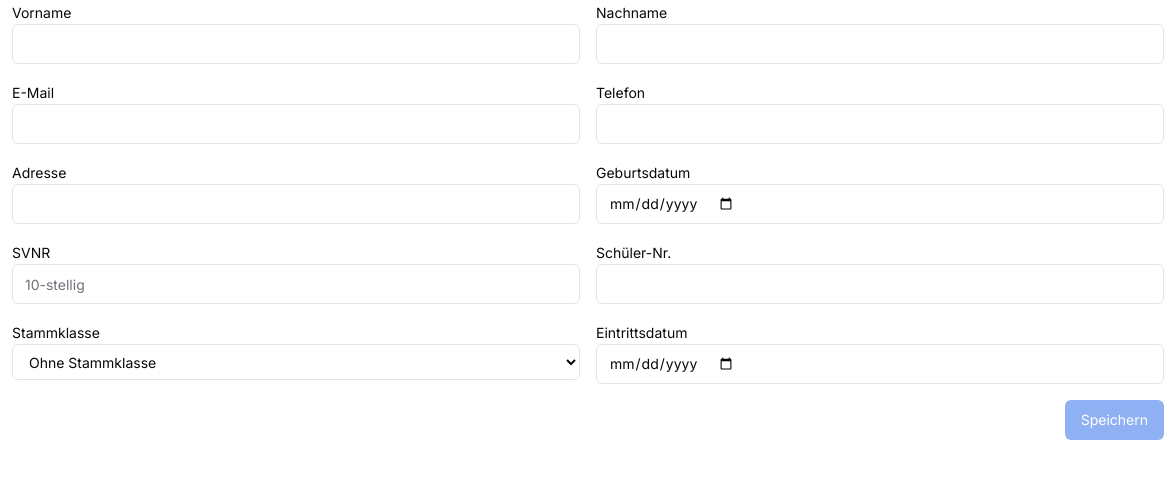
Test: StudentStammdatenTab › blocks submit when email is invalid
Type "Lisa" into the field labelled "Vorname".
click(296, 44); type("Lisa")  # box [12,24,580,64]
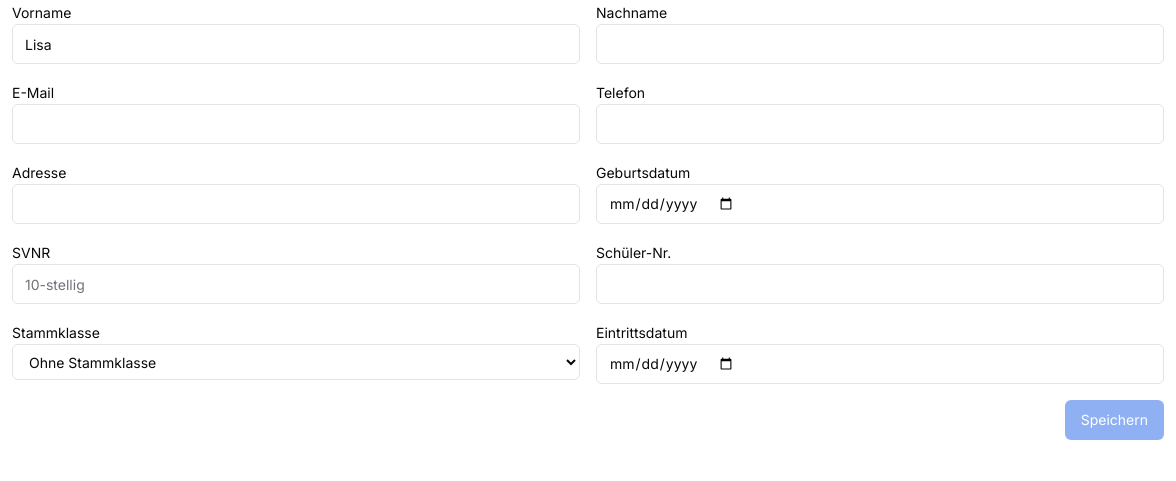
Type "Huber" into the field labelled "Nachname".
click(880, 44); type("Huber")  # box [596,24,1164,64]
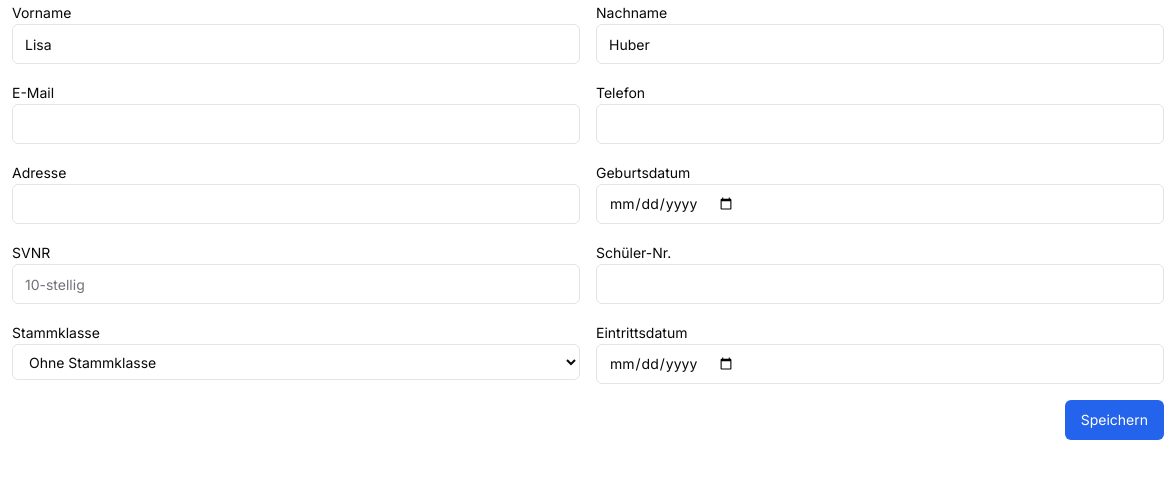
Type "not-an-email" into the field labelled "E-Mail".
click(296, 124); type("not-an-email")  # box [12,104,580,144]
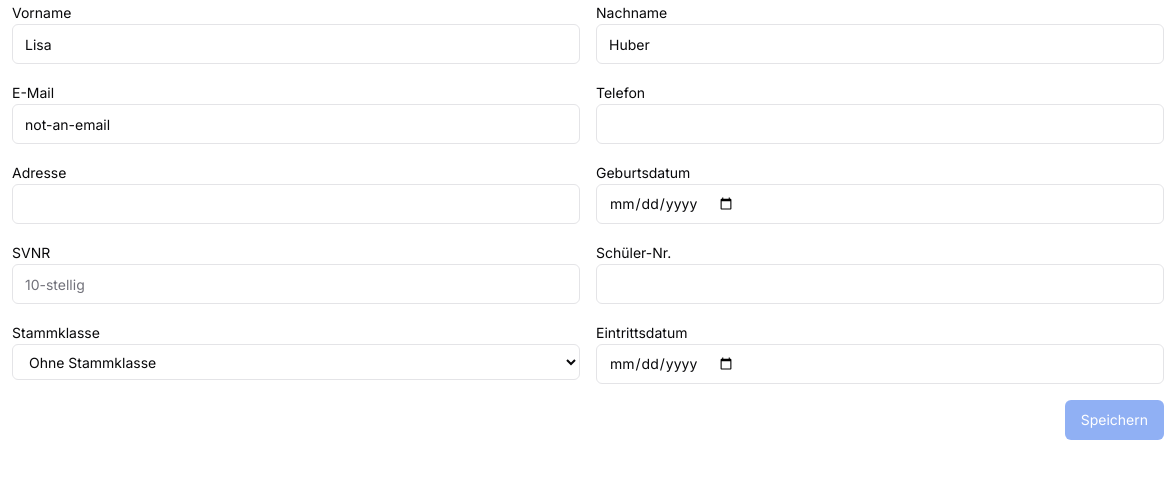
Submit the form
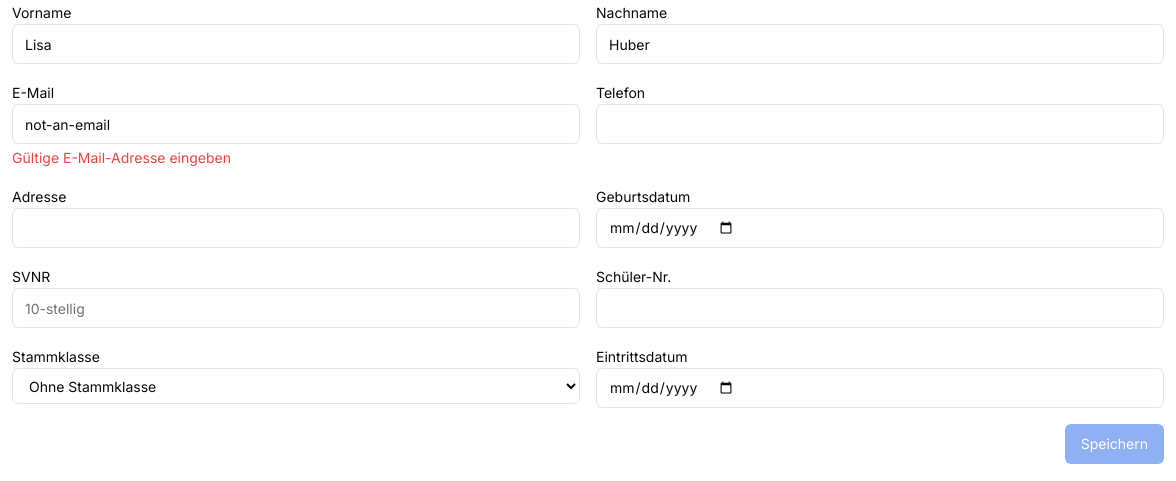
Check: the text "Gültige E-Mail-Adresse eingeben" is shown, box [12,149,231,166]
